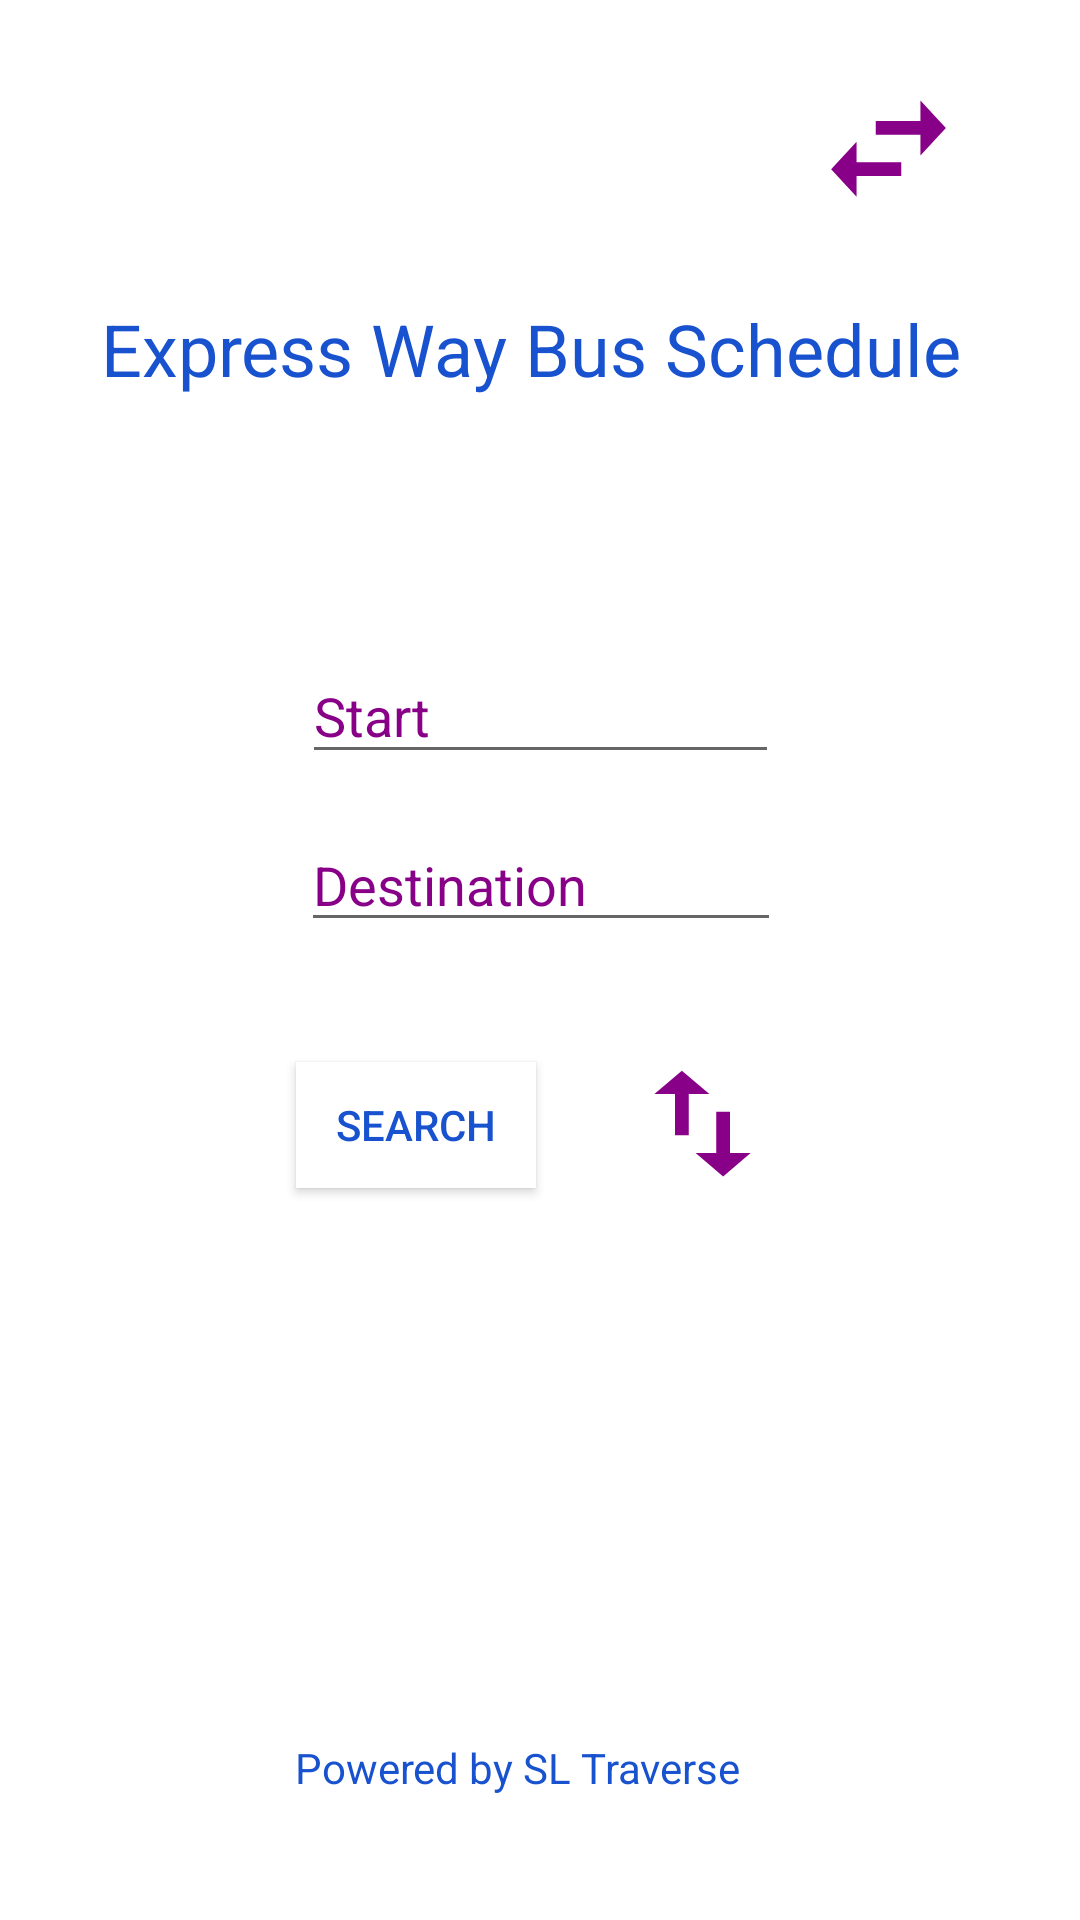

Where to tap for icons on this 1080x1920 app screen, as (x,y):
swap horiz: (888,148)
